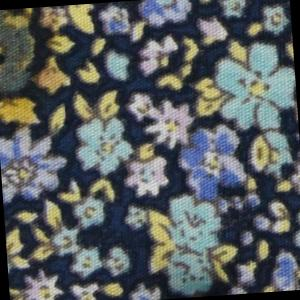Oil Stain: (1, 7, 75, 139)
